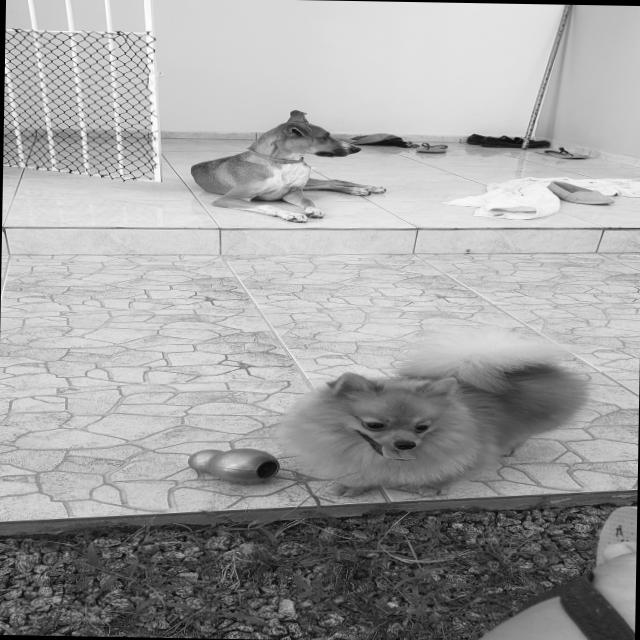laying down: (180, 106, 392, 226)
